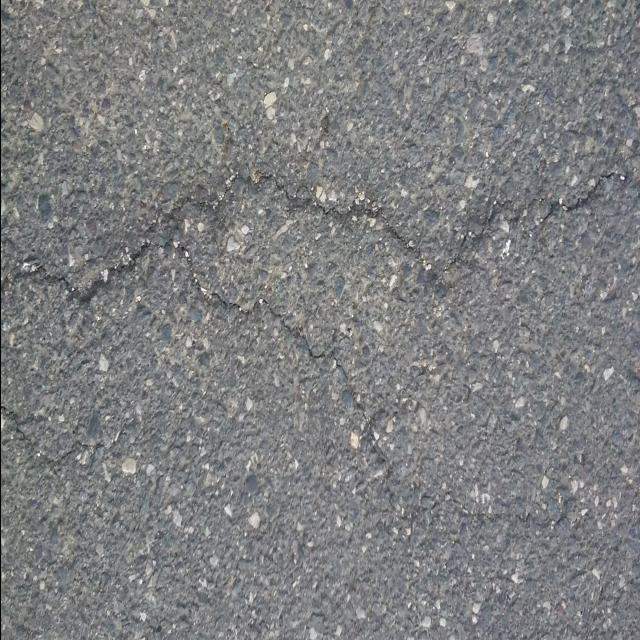Crack: (0, 170, 629, 376), (0, 403, 121, 466)
